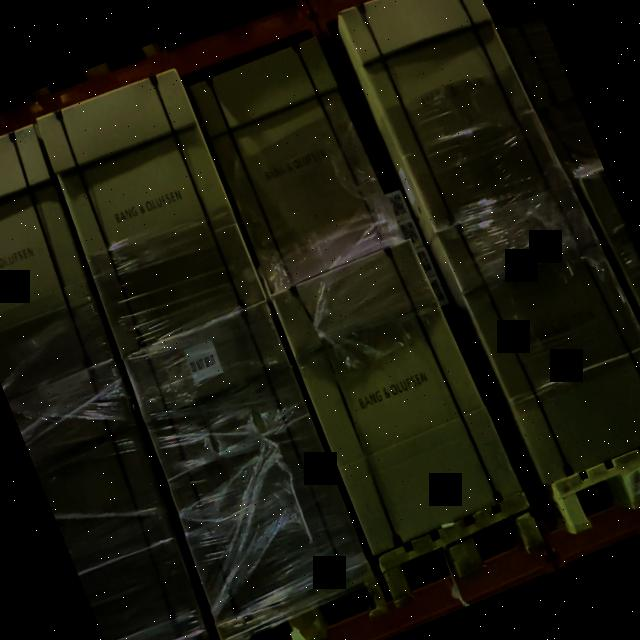box: (123, 299, 370, 629), (272, 237, 524, 555), (34, 67, 267, 352), (434, 181, 640, 479), (188, 35, 403, 291), (341, 0, 570, 233)
